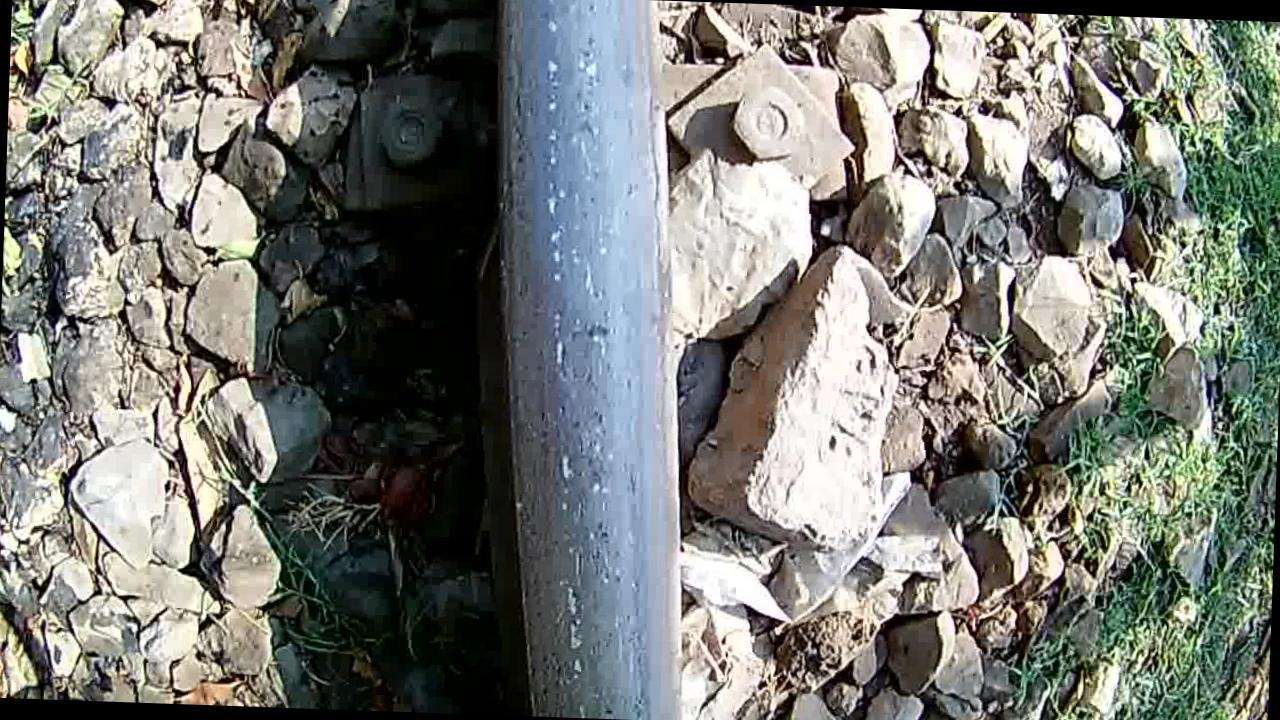clip_missing: (463, 0, 709, 720)
